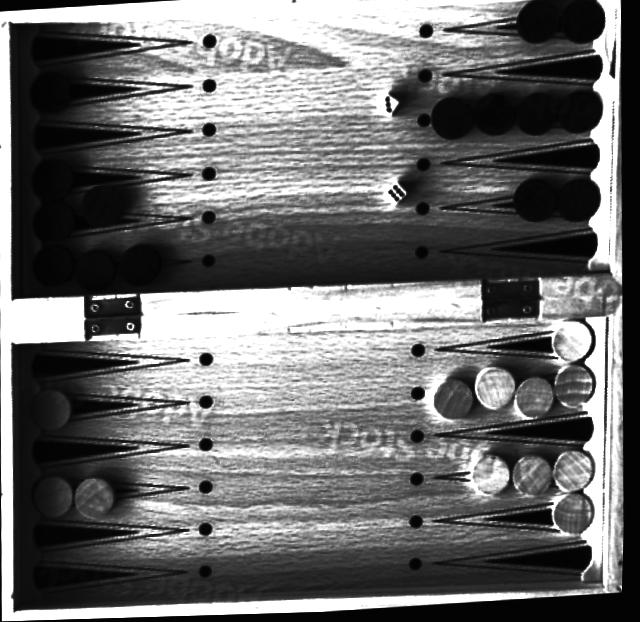bar: (14, 265, 611, 355)
board: (0, 0, 631, 622)
dark_p: (25, 236, 81, 290), (509, 174, 563, 229), (425, 93, 480, 146), (78, 175, 127, 233), (24, 65, 75, 120), (119, 235, 167, 292), (27, 195, 80, 245), (555, 177, 604, 230), (25, 152, 77, 201), (558, 88, 607, 140), (512, 0, 564, 49), (470, 90, 519, 140), (71, 246, 122, 294), (557, 0, 606, 48), (513, 91, 560, 141)
dice: (372, 89, 408, 123), (382, 179, 414, 211)
light_p: (427, 371, 484, 428), (72, 467, 125, 526), (474, 360, 522, 418), (29, 470, 81, 523), (513, 371, 562, 427), (546, 318, 599, 369), (468, 448, 517, 503), (550, 491, 599, 544), (510, 450, 559, 503), (28, 383, 78, 432), (553, 446, 601, 497), (553, 362, 599, 411)
